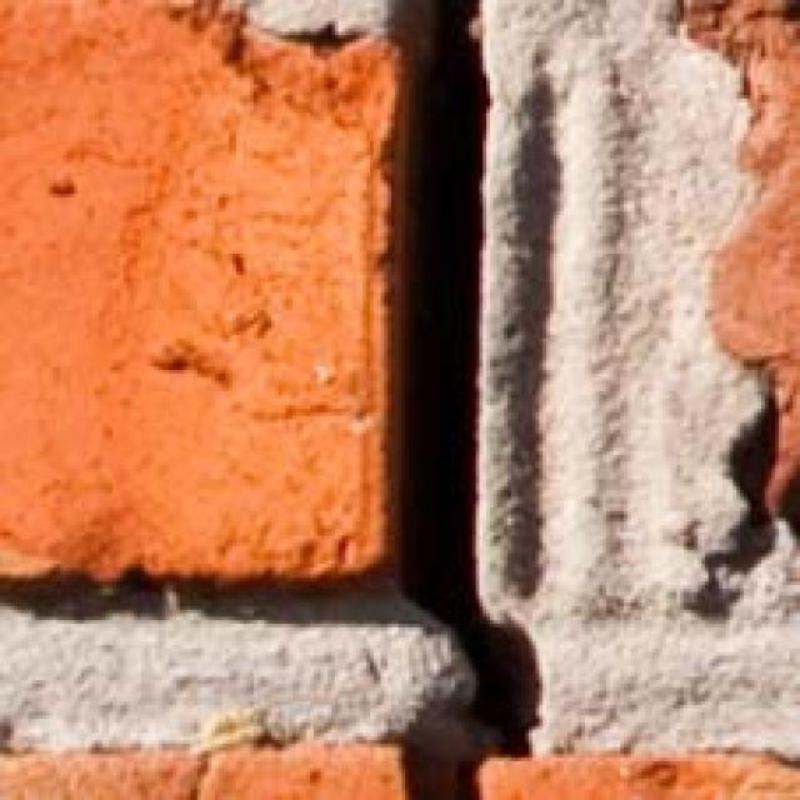pothole: (391, 0, 538, 752), (406, 736, 478, 800), (281, 20, 362, 50)
